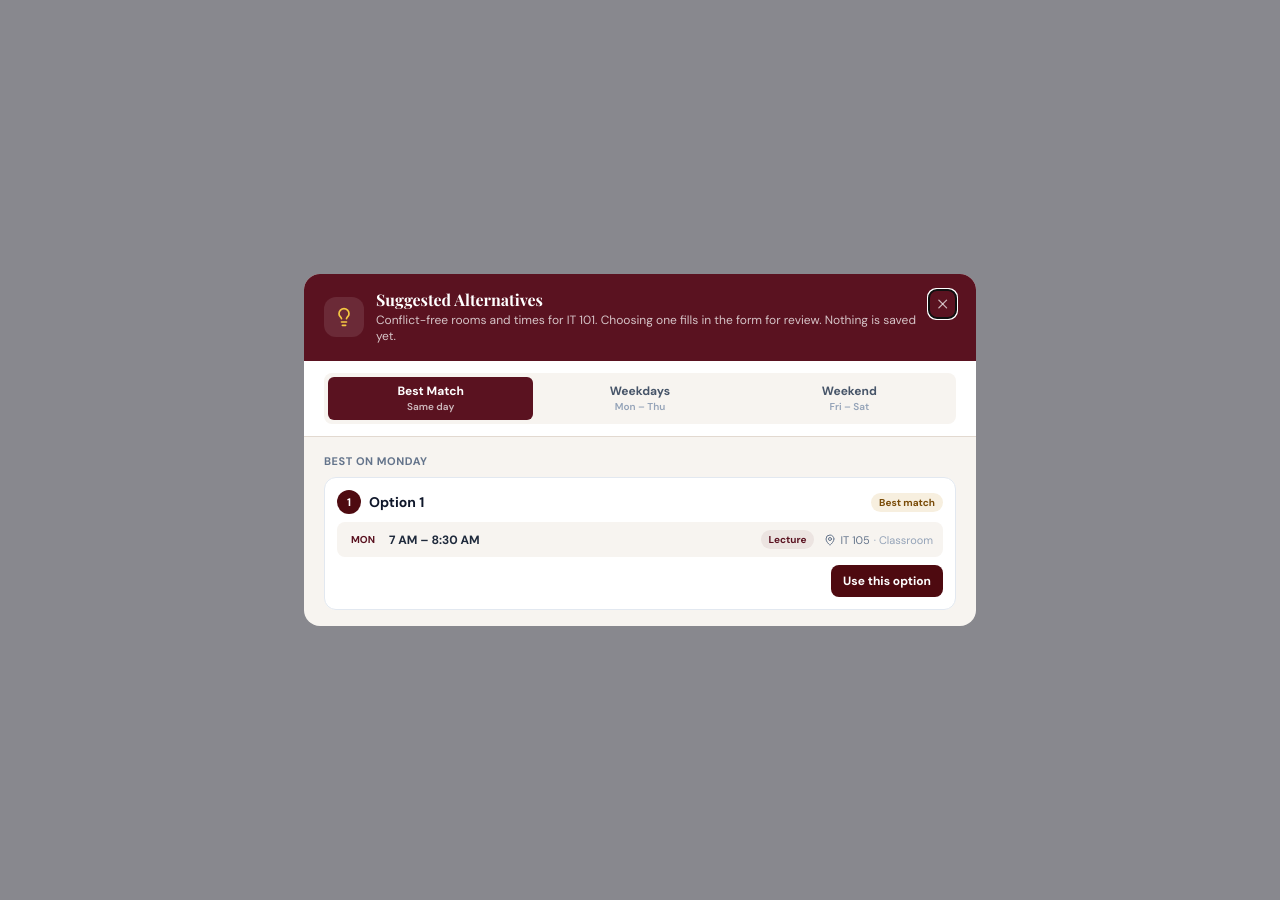
it: PlacementAlternatives › splits the full list into Weekdays (Mon-Thu) and Weekend (Fri-Sat)
Click the tab "Weekdays Mon – Thu" at (640, 398), box [537,377,743,420]
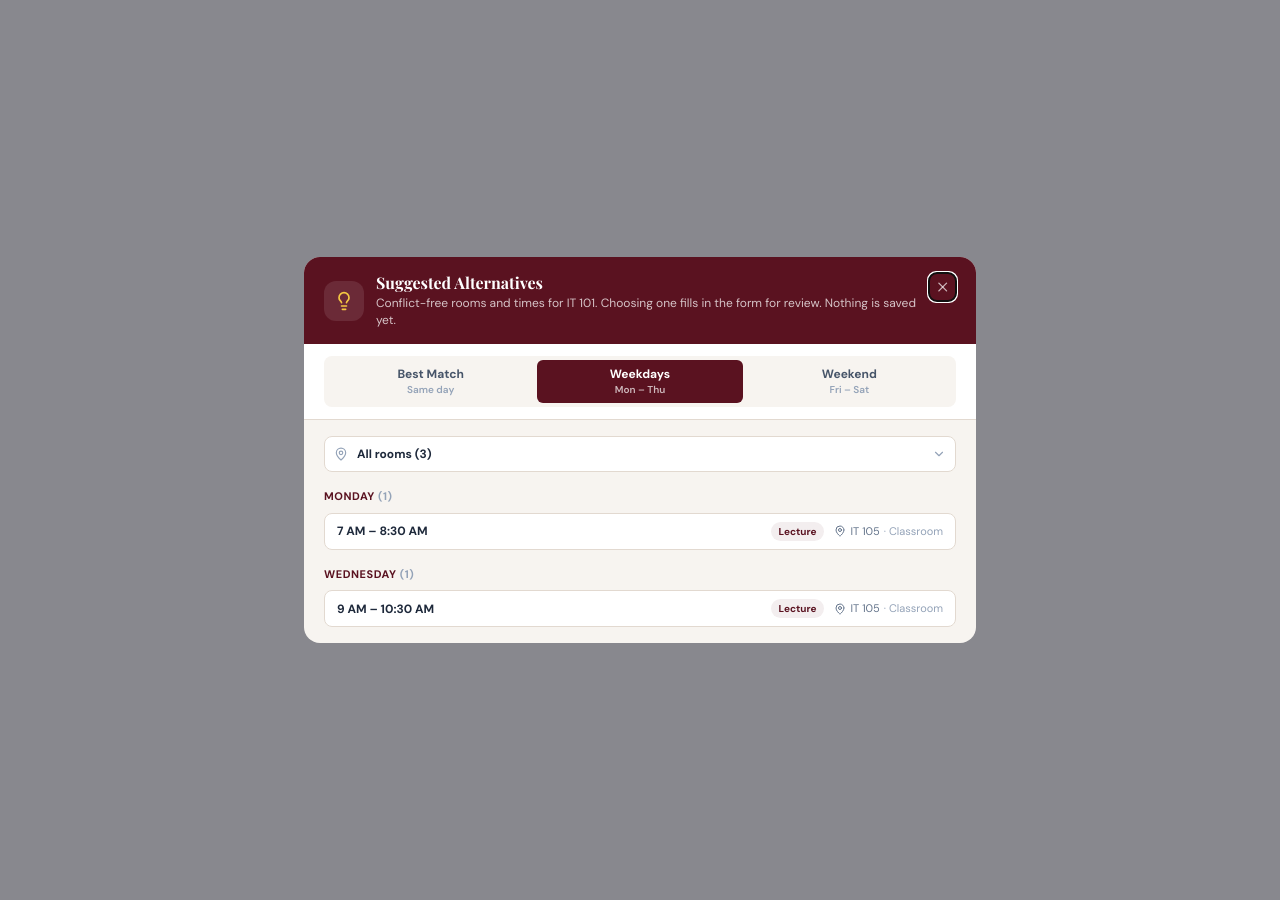
Expected: the text "Monday (1)" is shown, [320,484,960,508]
Expected: the text "Wednesday (1)" is shown, [320,562,960,586]
Expected: the dropdown named "Filter placements by room" is shown, [324,436,956,472]
Click the tab "Weekend Fri – Sat" at (849, 382), box [747,360,952,403]
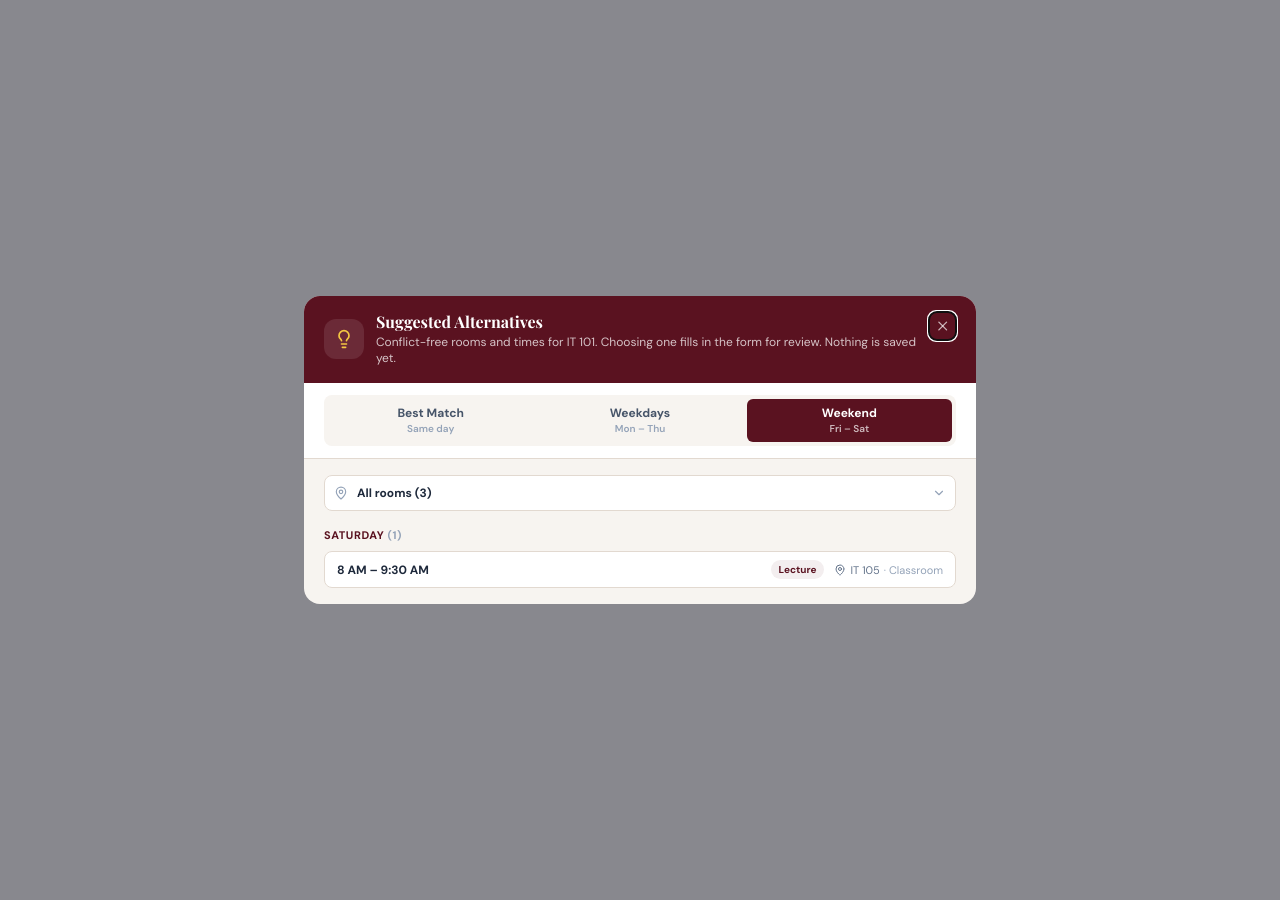
Expected: the text "Monday" is not shown
Expected: the text "Saturday (1)" is shown, [320,523,960,547]
